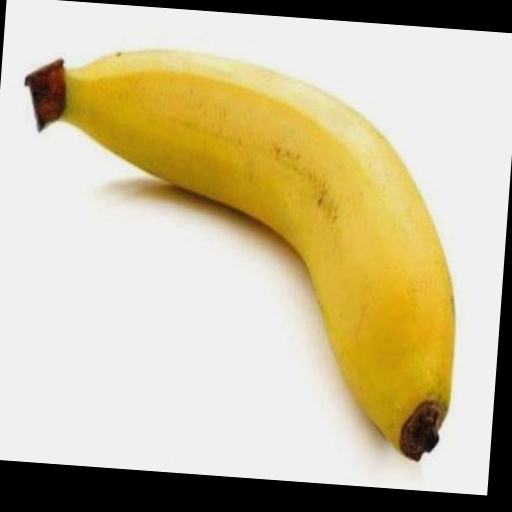fruit: (26, 51, 454, 460)
